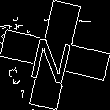N_N: (30, 26, 80, 84)
